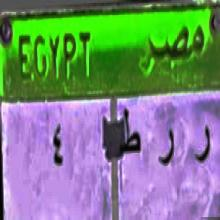4: (51, 119, 65, 170)
Taa: (116, 103, 143, 165)
raa: (192, 123, 212, 175), (159, 122, 175, 171)
